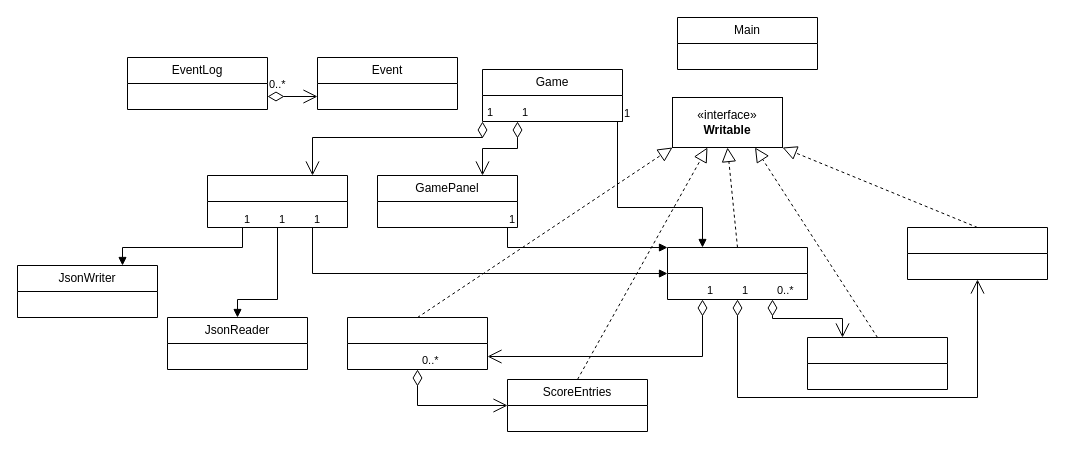
This 1065x449 diagram has some shape labels left out. The centre of each missing label's shape, as x and y in pixels:
"HighScores" goes at pixel 417 343.
"MyGame" goes at pixel 737 273.
"Player" goes at pixel 977 253.
"Projectile" goes at pixel 877 363.
"ScorePanel" goes at pixel 277 201.
